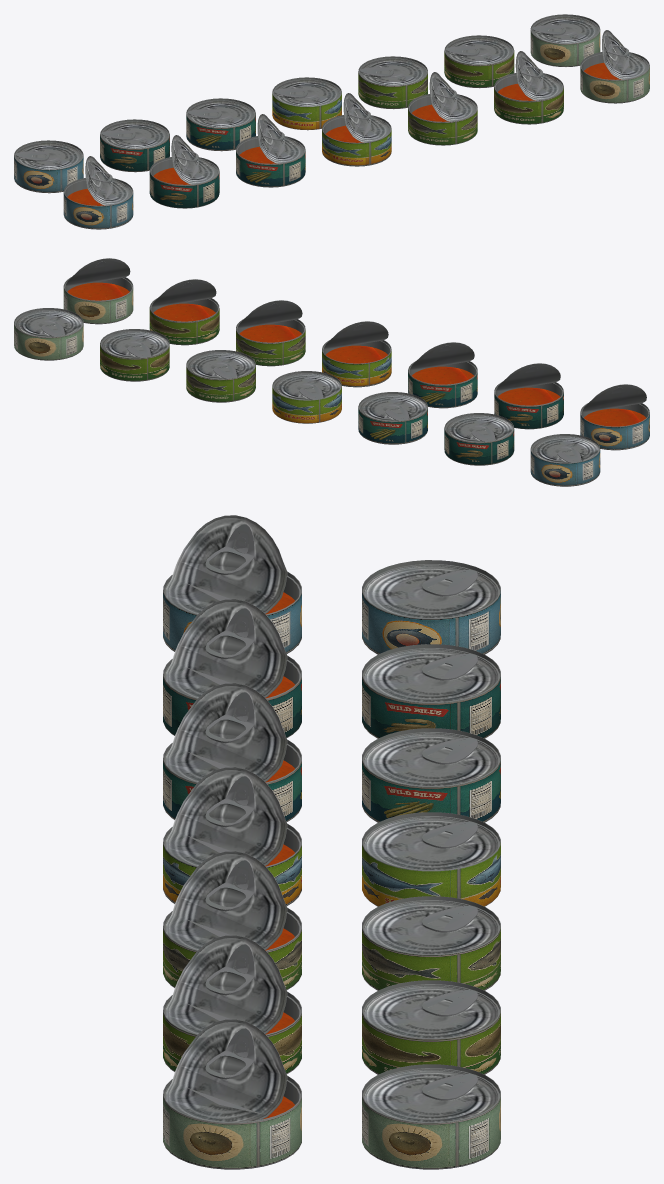
The model's file is Food_Cans.fbx.
3 views of the same model, one above another, from view 1: azimuth 30°, elevation 25°; view 2: azimuth 150°, elevation 25°; view 3: azimuth 270°, elevation 25° (orthographic). The views are drawn at different scales.
Visible parts, largest first — view 1: FoodCan.007, FoodCan.012, FoodCan.011, FoodCan.008, FoodCan.009, FoodCan.010, FoodCan.013, FoodCan.002, FoodCan.006, FoodCan.004, FoodCan.001, FoodCan.005 (+23 smaller); view 2: FoodCan.004, FoodCan.005, FoodCan, FoodCan.002, FoodCan.003, FoodCan.006, FoodCan.001, FoodCan.013, FoodCan.009, FoodCan.011, FoodCan.008, FoodCan.007 (+23 smaller); view 3: CanCover.014, CanCover.013, CanCover.008, CanCover.009, CanCover.010, CanCover.011, CanCover.012, FoodCan.006, FoodCan.013, FoodCan, FoodCan.004, FoodCan.001 (+16 smaller).
Boxes of the visible parts, left/top/right/bottom form: FoodCan.007: left=149, top=157, right=219, bottom=208; FoodCan.012: left=63, top=178, right=133, bottom=229; FoodCan.011: left=322, top=115, right=391, bottom=166; FoodCan.008: left=236, top=136, right=305, bottom=187; FoodCan.009: left=494, top=73, right=563, bottom=124; FoodCan.010: left=408, top=94, right=477, bottom=145; FoodCan.013: left=580, top=52, right=649, bottom=103; FoodCan.002: left=444, top=35, right=514, bottom=88; FoodCan.006: left=530, top=14, right=600, bottom=66; FoodCan.004: left=100, top=119, right=169, bottom=172; FoodCan.001: left=358, top=56, right=427, bottom=109; FoodCan.005: left=14, top=140, right=83, bottom=193; FoodCan.004: left=444, top=413, right=514, bottom=465; FoodCan.005: left=530, top=434, right=600, bottom=486; FoodCan: left=272, top=371, right=341, bottom=423; FoodCan.002: left=100, top=329, right=169, bottom=381; FoodCan.003: left=358, top=392, right=427, bottom=444; FoodCan.006: left=14, top=308, right=83, bottom=360; FoodCan.001: left=186, top=350, right=255, bottom=402; FoodCan.013: left=63, top=277, right=133, bottom=324; FoodCan.009: left=149, top=298, right=219, bottom=345; FoodCan.011: left=322, top=340, right=391, bottom=387; FoodCan.008: left=408, top=361, right=477, bottom=408; FoodCan.007: left=494, top=382, right=563, bottom=429; CanCover.014: left=166, top=1019, right=287, bottom=1122; CanCover.013: left=166, top=515, right=287, bottom=613; CanCover.008: left=166, top=599, right=287, bottom=697; CanCover.009: left=166, top=683, right=287, bottom=781; CanCover.010: left=166, top=935, right=287, bottom=1034; CanCover.011: left=166, top=851, right=287, bottom=949; CanCover.012: left=166, top=767, right=287, bottom=865; FoodCan.006: left=362, top=1064, right=500, bottom=1169; FoodCan.013: left=163, top=1075, right=301, bottom=1169; FoodCan: left=362, top=812, right=500, bottom=906; FoodCan.004: left=362, top=644, right=500, bottom=738; FoodCan.001: left=362, top=896, right=500, bottom=990.
Bounding box in the file's own units: 13398 × 1232 × 3398.
